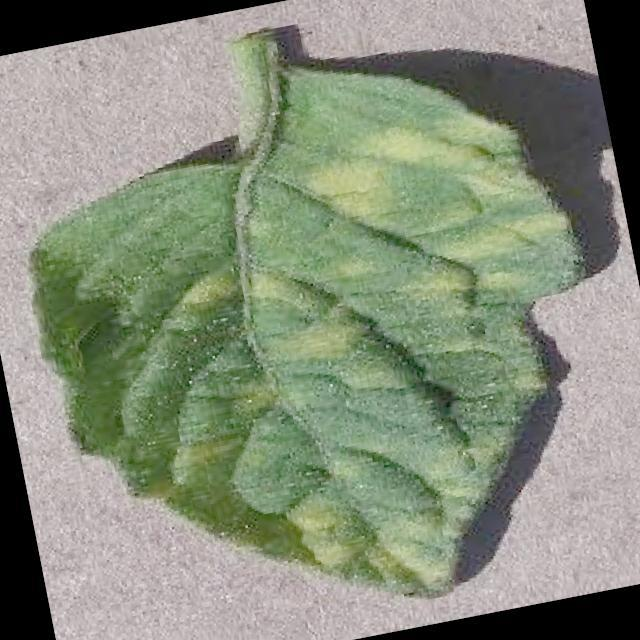Tomato mold leaf: (0, 16, 633, 640)
